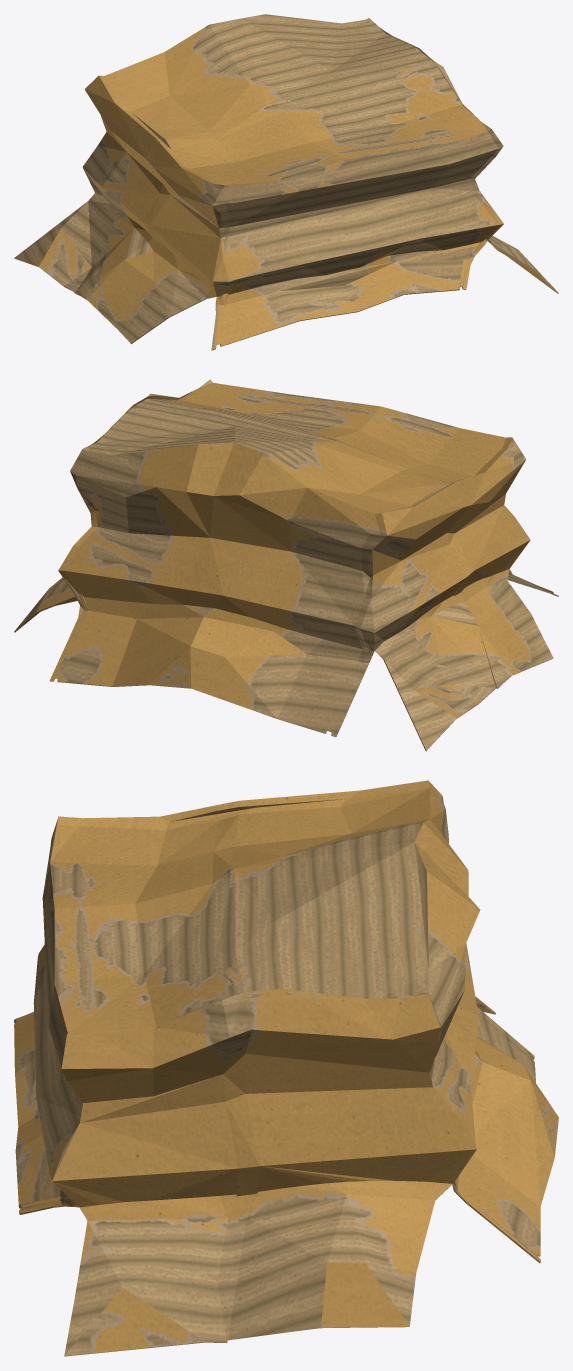
3 renders of one model, top to bottom at view 1: azimuth 30°, elevation 25°; view 2: azimuth 150°, elevation 25°; view 3: azimuth 270°, elevation 25°, orthographic. The views are drawn at different scales.
Visible parts, largest first — view 1: BOX2; view 2: BOX2; view 3: BOX2.
Boxes of the visible parts, left/top/right/bottom form: BOX2: left=14, top=14, right=558, bottom=350; BOX2: left=14, top=379, right=558, bottom=751; BOX2: left=14, top=780, right=558, bottom=1356.
Size of the model in its own units: 4.09 by 2.32 by 3.13.
1 material, 1 textured.
